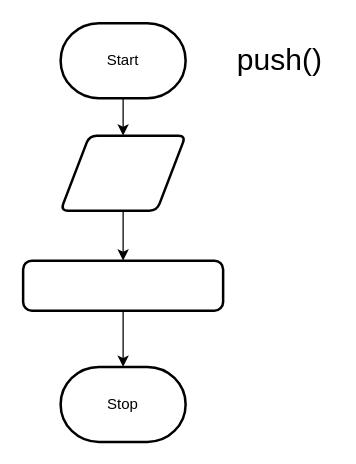
This 356x464 diagram has some shape labels left out. Each missing label, with the centre of its shape:
"Get Input" goes at point (122, 172).
"self.stackAsList.push(input)" goes at point (122, 285).
